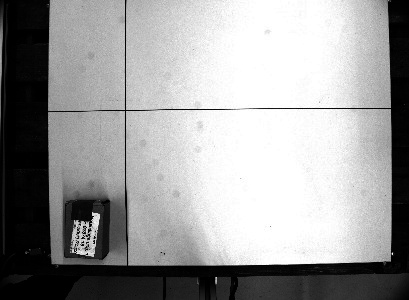b6: (59, 197, 113, 261)
